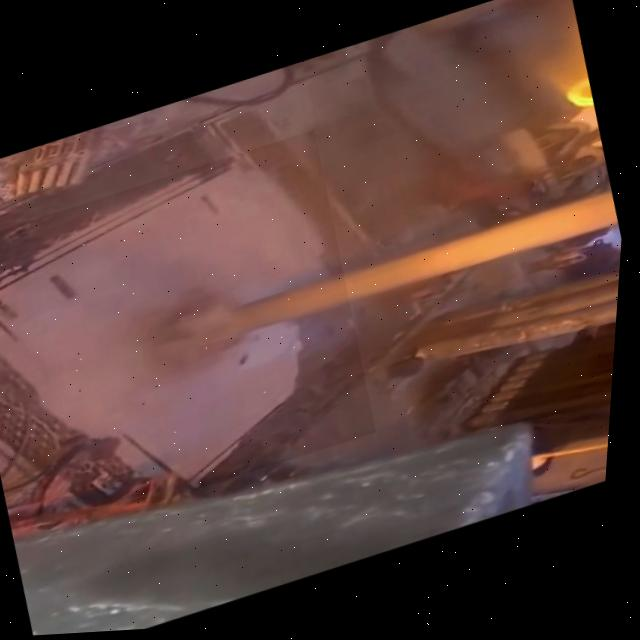spillage: (0, 134, 381, 548)
